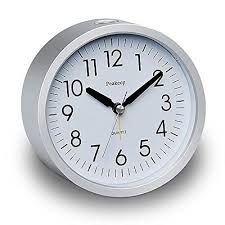alarm_clock: (19, 11, 208, 199), (28, 11, 208, 199)
